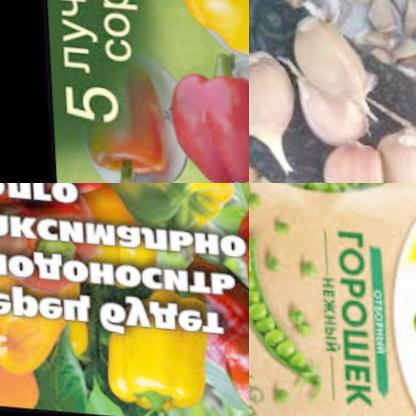bell pepper: (95, 285, 216, 411), (97, 293, 208, 416), (159, 54, 249, 183), (81, 61, 171, 183), (0, 270, 80, 387), (0, 206, 108, 286), (106, 183, 240, 240), (161, 0, 249, 56), (0, 183, 117, 220), (0, 344, 56, 410), (218, 310, 249, 416)
garlic: (290, 9, 377, 116), (249, 35, 300, 175), (284, 63, 373, 143), (249, 0, 416, 34), (307, 128, 397, 183), (376, 0, 416, 121), (369, 127, 416, 183)
peas: (249, 237, 309, 393), (266, 203, 322, 257), (249, 183, 402, 202), (265, 378, 302, 410), (285, 300, 318, 333), (292, 243, 325, 275), (249, 183, 277, 215), (263, 248, 279, 272)
